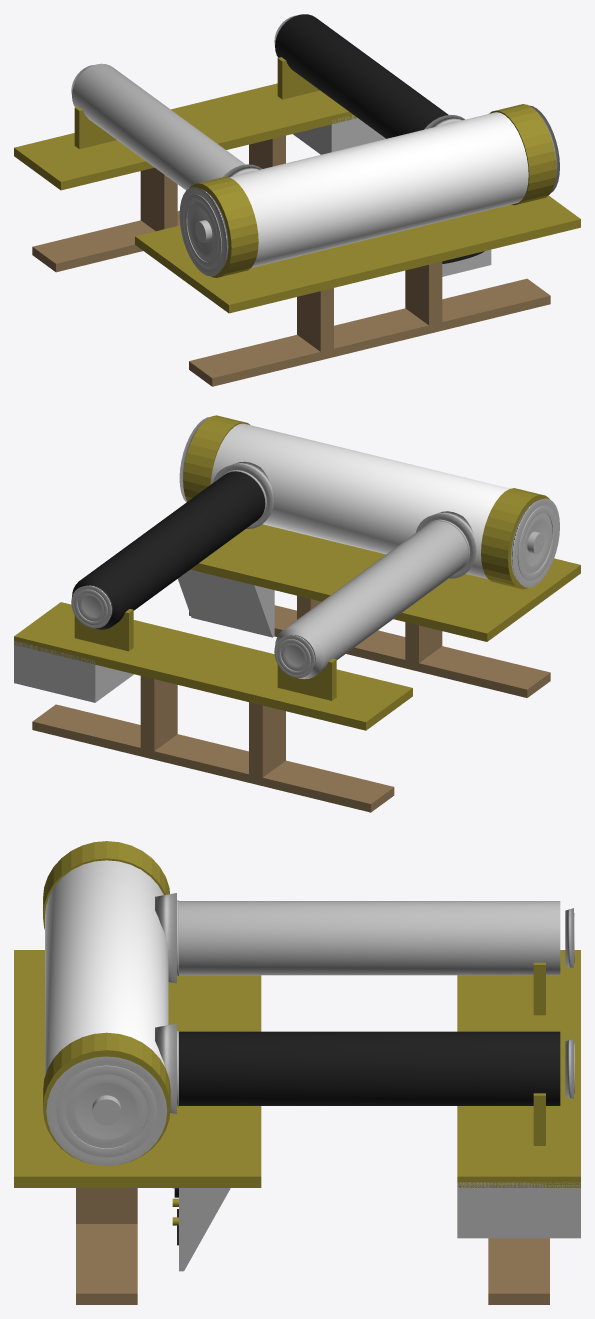
Rendered from neutronSpectrometer.glb.
The picture shows the model from 3 angles, top to bottom: view 1: azimuth 30°, elevation 25°; view 2: azimuth 150°, elevation 25°; view 3: azimuth 270°, elevation 25°; orthographic projection. The views are drawn at different scales.
Parts seen in each view (by area): view 1: Cylinder, Cube.001, Cube.004, Cube.002, Cylinder.002, Cylinder.001, Cube.005, Cylinder.004, Cylinder.006, Cylinder.003, Cube.007, Cube (+6 smaller); view 2: Cylinder, Cube.004, Cube.001, Cylinder.002, Cylinder.001, Cube.005, Cube.002, Cube.011, Cube.010, Cylinder.004, Cylinder.006, Cube.006 (+9 smaller); view 3: Cylinder.002, Cylinder.001, Cube.001, Cylinder, Cube.004, Cylinder.005, Cube.010, Cube.002, Cube.005, Cylinder.003, Cylinder.004, Cube.011 (+6 smaller).
Part boxes in pixels (x1=…): Cylinder: x1=229, y1=112, x2=528, y2=267; Cube.001: x1=135, y1=195, x2=580, y2=313; Cube.004: x1=14, y1=83, x2=357, y2=190; Cube.002: x1=189, y1=278, x2=550, y2=386; Cylinder.002: x1=275, y1=14, x2=448, y2=138; Cylinder.001: x1=72, y1=63, x2=245, y2=190; Cube.005: x1=32, y1=211, x2=179, y2=272; Cylinder.004: x1=190, y1=176, x2=258, y2=277; Cylinder.006: x1=179, y1=187, x2=228, y2=276; Cylinder.003: x1=489, y1=104, x2=556, y2=205; Cube.007: x1=140, y1=167, x2=177, y2=231; Cube: x1=405, y1=261, x2=442, y2=325; Cylinder: x1=211, y1=423, x2=509, y2=578; Cube.004: x1=14, y1=602, x2=412, y2=730; Cube.001: x1=190, y1=524, x2=580, y2=641; Cylinder.002: x1=72, y1=471, x2=265, y2=629; Cylinder.001: x1=275, y1=521, x2=468, y2=679; Cube.005: x1=32, y1=704, x2=394, y2=812; Cube.002: x1=189, y1=605, x2=550, y2=697; Cube.011: x1=178, y1=569, x2=274, y2=637; Cube.010: x1=14, y1=640, x2=133, y2=702; Cylinder.004: x1=481, y1=488, x2=549, y2=589; Cylinder.006: x1=511, y1=498, x2=559, y2=587; Cube.006: x1=140, y1=676, x2=177, y2=751; Cylinder.002: x1=179, y1=1031, x2=560, y2=1105; Cylinder.001: x1=179, y1=901, x2=560, y2=975; Cube.001: x1=14, y1=950, x2=261, y2=1187; Cylinder: x1=45, y1=860, x2=168, y2=1075; Cube.004: x1=457, y1=950, x2=580, y2=1187; Cylinder.005: x1=46, y1=1056, x2=167, y2=1165; Cube.010: x1=457, y1=1182, x2=580, y2=1238; Cube.002: x1=76, y1=1224, x2=137, y2=1304; Cube.005: x1=488, y1=1238, x2=549, y2=1304; Cylinder.003: x1=43, y1=1032, x2=170, y2=1164; Cylinder.004: x1=43, y1=841, x2=169, y2=929; Cube.011: x1=179, y1=1188, x2=230, y2=1271.
Bounding box in the file's own units: 2.6 × 1.34 × 2.75.
